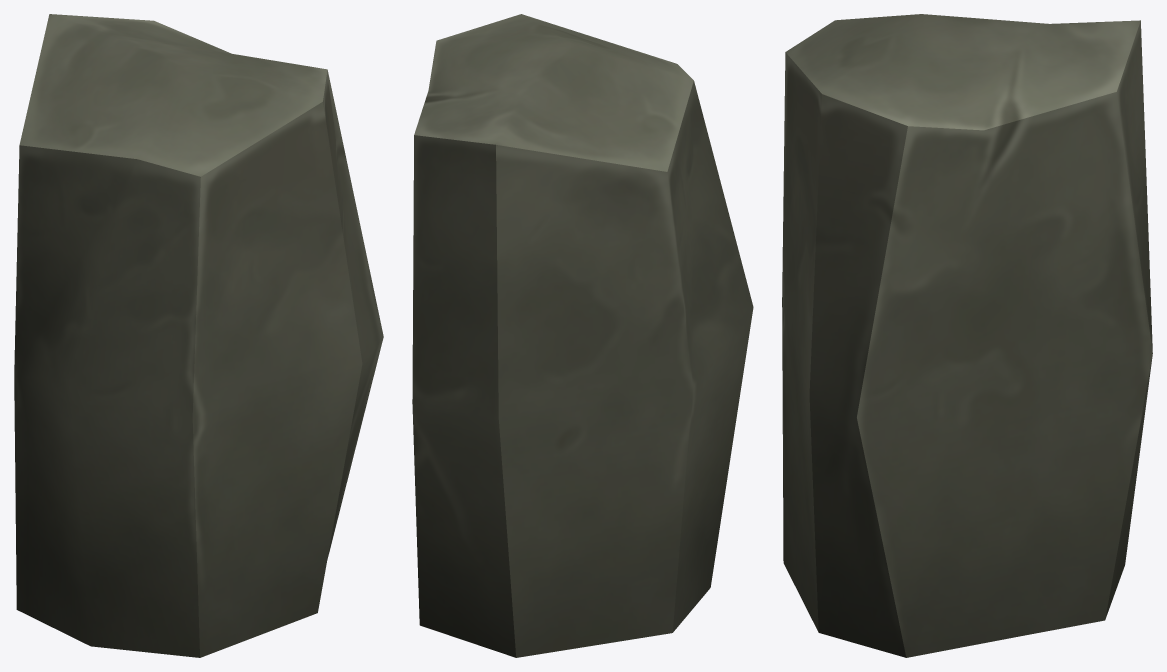
Rendered from Rock Tall #1.fbx.
3 renders of one model, left to right at view 1: azimuth 30°, elevation 25°; view 2: azimuth 150°, elevation 25°; view 3: azimuth 270°, elevation 25°, orthographic. The views are drawn at different scales.
Visible parts, largest first — view 1: Rock Tall #1; view 2: Rock Tall #1; view 3: Rock Tall #1.
Part boxes in pixels (box(x1,y1,x2,y2)): Rock Tall #1: box(14, 14, 383, 657); Rock Tall #1: box(412, 14, 753, 657); Rock Tall #1: box(782, 14, 1152, 657).
Bounding box in the file's own units: 87.33 × 139 × 82.04.
Materials: 1 (1 with a texture image).
